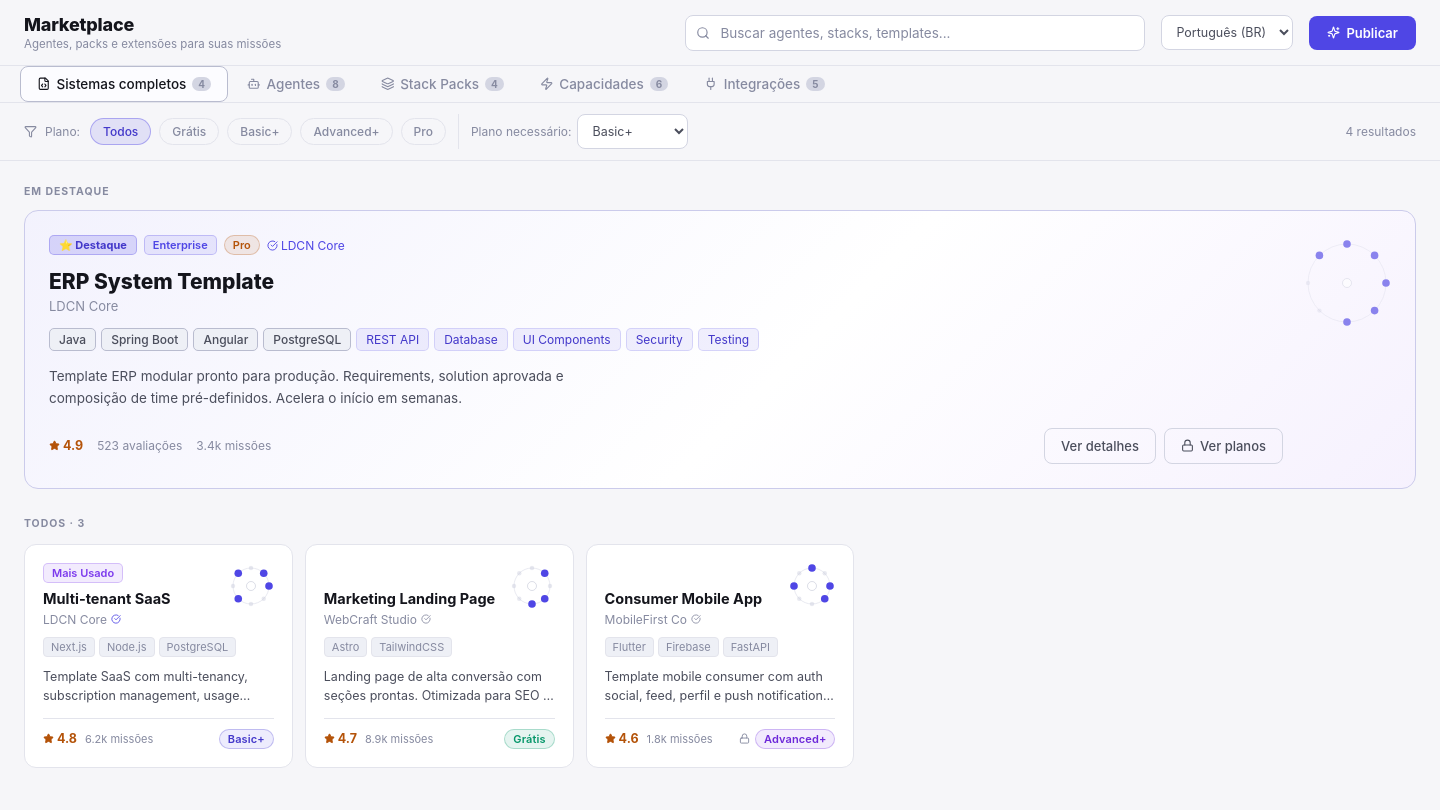
Test case: Marketplace › switches to the Agentes tab and still finds the agent catalog
Step 1. Click the button "Agentes 8" → (296, 84), box left=230, top=66, right=362, bottom=102
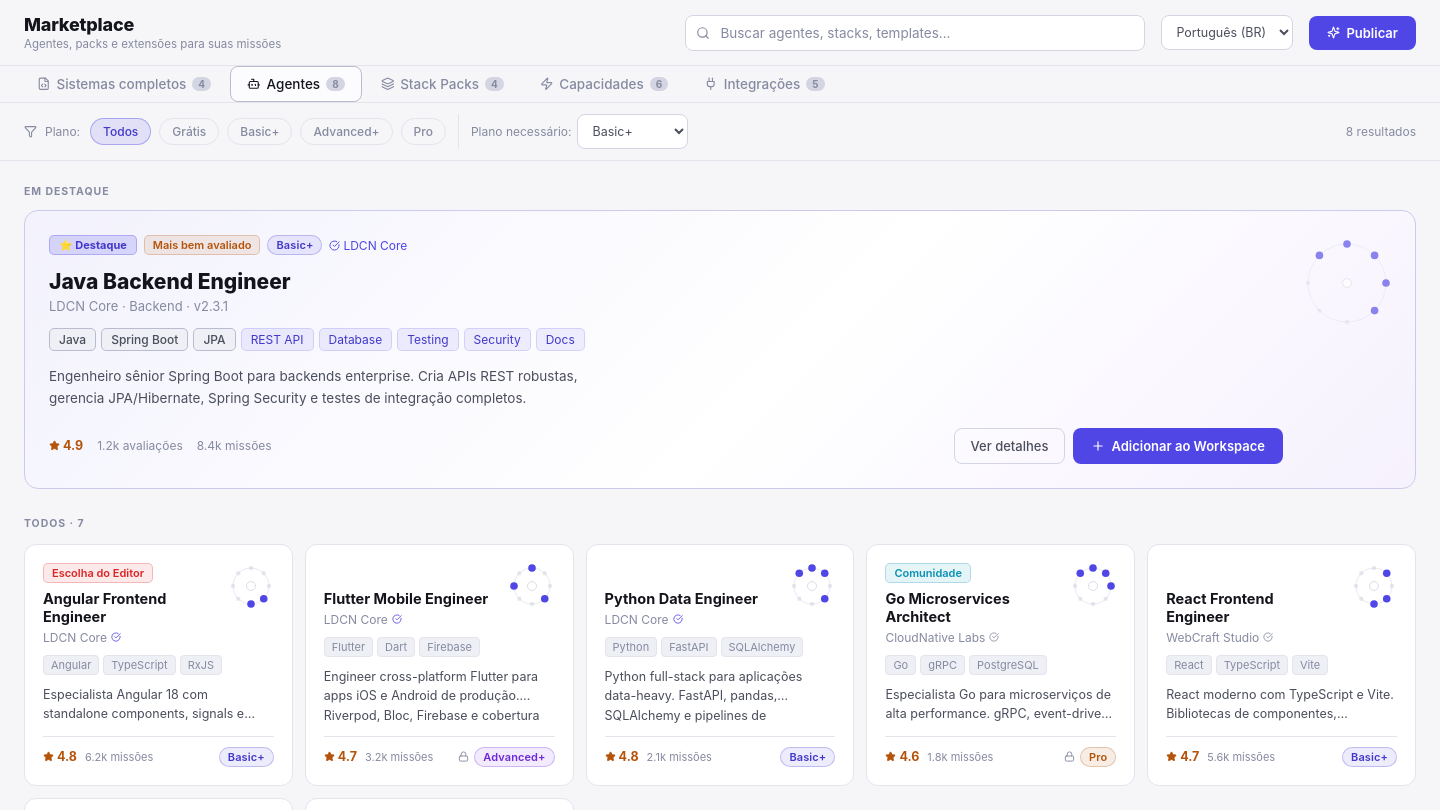
Expected: the heading "Java Backend Engineer" is shown, left=49, top=269, right=291, bottom=294
